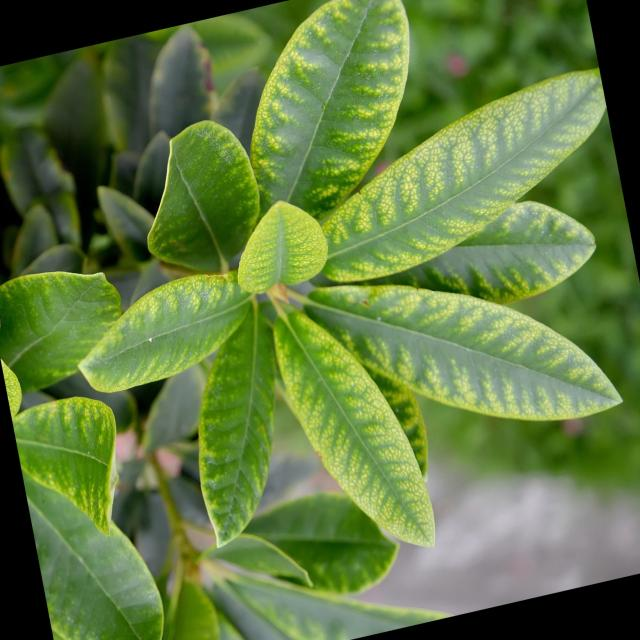Chlorosis: (47, 46, 536, 556)
